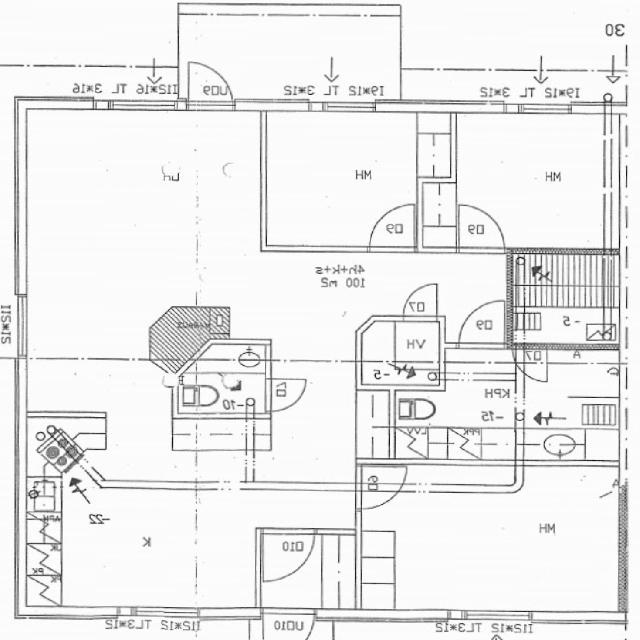door: (263, 528, 314, 584), (459, 203, 505, 254), (459, 298, 505, 349), (370, 204, 415, 254), (188, 60, 232, 110), (356, 468, 406, 509), (264, 378, 305, 412), (404, 285, 436, 323), (515, 343, 547, 380)
